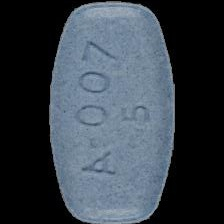16590-745: (0, 0, 224, 224)
